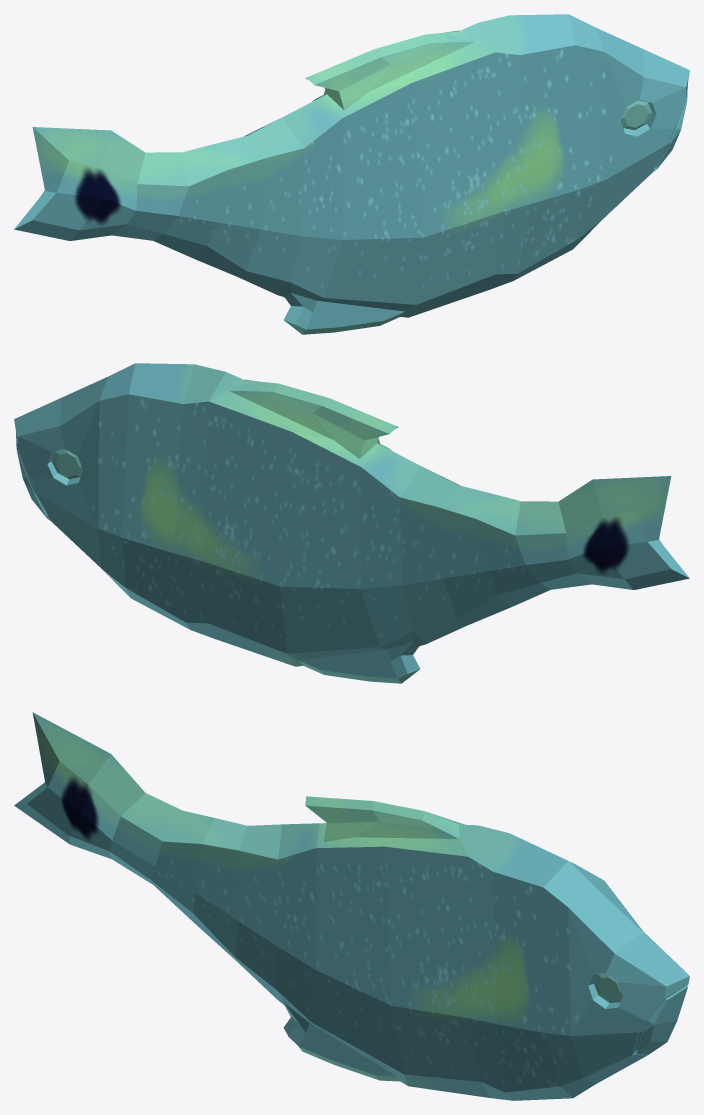
Rendered from Haemulon_steindachneri.glb.
3 views of the same model, one above another, from view 1: azimuth 30°, elevation 25°; view 2: azimuth 150°, elevation 25°; view 3: azimuth 330°, elevation 25° (orthographic).
Parts seen in each view (by area): view 1: FishV1; view 2: FishV1; view 3: FishV1.
Boxes of the visible parts, x1=… form: FishV1: x1=14, y1=14, x2=689, y2=334; FishV1: x1=14, y1=363, x2=689, y2=683; FishV1: x1=14, y1=712, x2=689, y2=1100.
Size of the model in its own units: 0.7706 by 0.3091 by 0.0722.
1 material, 1 textured.
